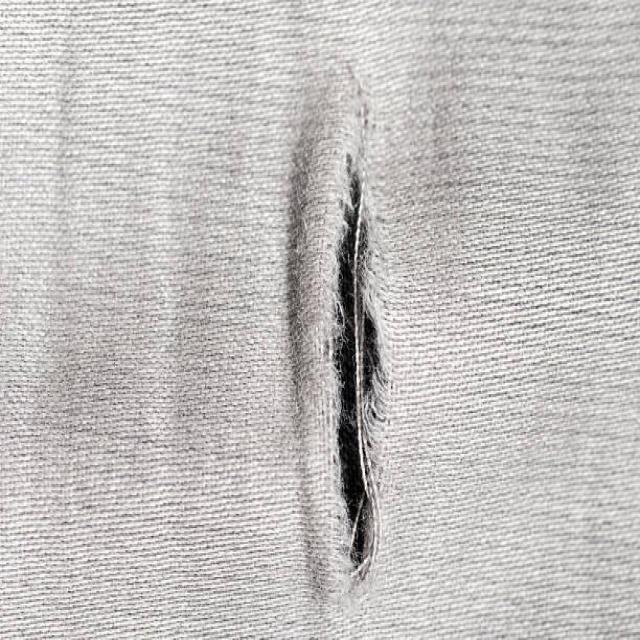cut: (321, 143, 394, 595)
